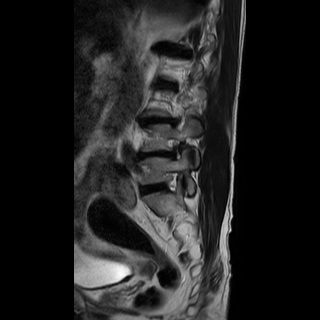RFS3: (158, 133, 188, 166)
